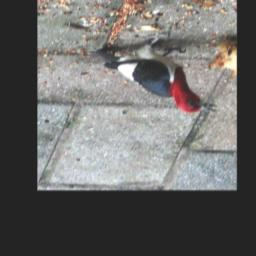Woodpecker: (88, 28, 223, 118)
